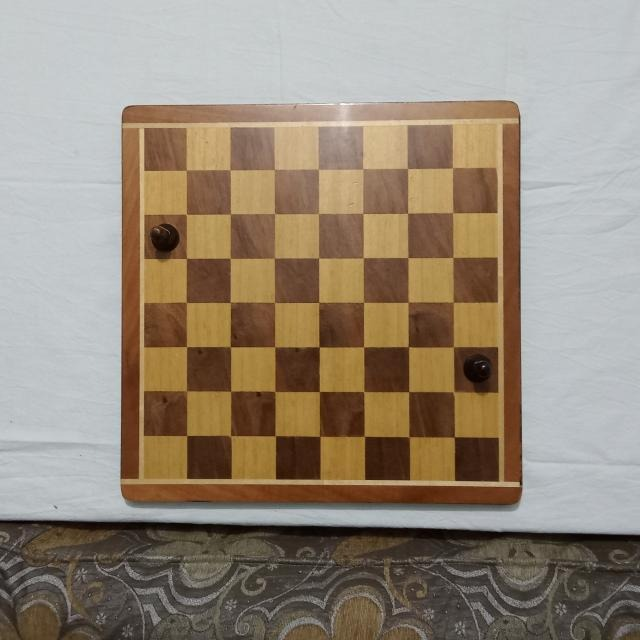black-pawn: (150, 221, 182, 253), (462, 351, 493, 384)
